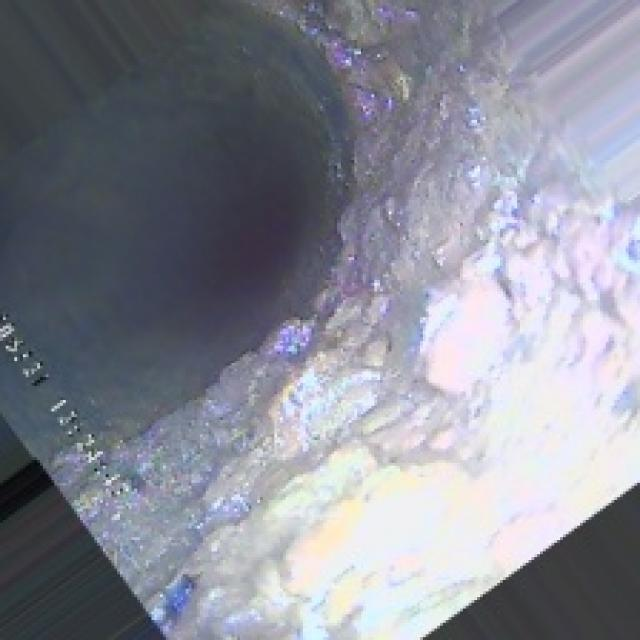encrustation: (226, 323, 600, 508)
